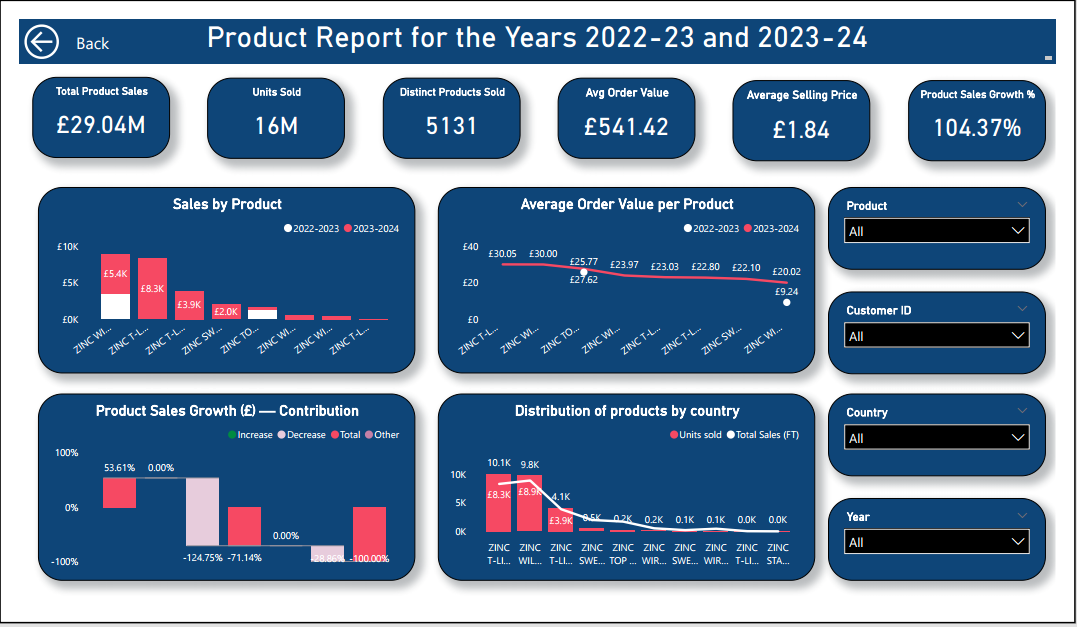

The dashboard page shown, as its layout file describes it:
{"tool":"powerbi","page":{"name":"Product Analysis Report","canvas":[1280,720],"ordinal":2},"visuals":[{"type":"textbox","title":"Product Report for the Years 2022-23 and 2023-24","box":[0,0,1280.3,55],"z":0},{"type":"card","title":"Total Product Sales ","fields":{"Values":["Fact_Transactions.Total Sales (FT)"]},"box":[16.1,71.3,170,100],"z":1000},{"type":"card","title":"Avg Order Value","fields":{"Values":["Fact_Transactions.AOV"]},"box":[665,72.3,170,100],"z":2000},{"type":"card","title":"Distinct Products Sold","fields":{"Values":["Fact_Transactions.Distinct Products Sold"]},"box":[448.7,72.5,170,100],"z":3000},{"type":"card","title":"Units Sold","fields":{"Values":["Fact_Transactions.Units sold"]},"box":[232.4,71.8,170,100],"z":4000},{"type":"waterfallChart","title":"Product Sales Growth (£) — Contribution","fields":{"Category":["Fact_Transactions.Description"],"Y":["Fact_Transactions.Product Sales Growth %"],"Breakdown":["Fact_Transactions.Source Year"]},"box":[23.2,462.2,465.9,231.1],"z":5000},{"type":"columnChart","title":"Sales by Product","fields":{"Category":["Fact_Transactions.Description"],"Y":["Fact_Transactions.Total Sales (FT)"],"Series":["Fact_Transactions.Source Year"]},"box":[22.9,207.1,465.7,230],"z":6000},{"type":"barChart","title":"Average Order Value per Product","fields":{"Category":["Fact_Transactions.Description"],"Series":["Fact_Transactions.Source Year"],"Y":["Fact_Transactions.AOV"]},"box":[517.1,207.1,465.7,230],"z":7000},{"type":"lineClusteredColumnComboChart","title":"Distribution of products by country","fields":{"Category":["Fact_Transactions.Description"],"Y":["Fact_Transactions.Units sold"],"Y2":["Fact_Transactions.Total Sales (FT)"]},"box":[517.3,462.4,465.2,230.5],"z":8000},{"type":"card","title":"Average Selling Price","fields":{"Values":["Fact_Transactions.ASP"]},"box":[881.3,74.7,170,100],"z":9000},{"type":"card","title":"Product Sales Growth %","fields":{"Values":["Fact_Transactions.Product Sales Growth %"]},"box":[1097.8,74.7,170,100],"z":10000},{"type":"slicer","fields":{"Values":["Fact_Transactions.Source Year"]},"box":[999,591.4,269,101.5],"z":11000},{"type":"slicer","fields":{"Values":["Fact_Transactions.Description"]},"box":[999,207.2,269,101.5],"z":12000},{"type":"actionButton","box":[0,0,114.9,55],"z":13000},{"type":"slicer","fields":{"Values":["Fact_Transactions.Country"]},"box":[999,462.4,269,101.5],"z":14000},{"type":"slicer","fields":{"Values":["Fact_Transactions.Customer ID"]},"box":[999,336.2,269,101.5],"z":15000}]}

Visuals, with their boxes on the page's 1280x720 design canvas (x1, y1, x2, y2). These are canvas units, not pixel positions in the 1077x627 screenshot, which may show the page scaled, cropped or inside an application window:
"Product Report for the Years 2022-23 and 2023-24" textbox: [0,0,1280,55]
"Total Product Sales " card: [16,71,186,171]
"Avg Order Value" card: [665,72,835,172]
"Distinct Products Sold" card: [449,72,619,172]
"Units Sold" card: [232,72,402,172]
"Product Sales Growth (£) — Contribution" waterfallChart: [23,462,489,693]
"Sales by Product" columnChart: [23,207,489,437]
"Average Order Value per Product" barChart: [517,207,983,437]
"Distribution of products by country" lineClusteredColumnComboChart: [517,462,982,693]
"Average Selling Price" card: [881,75,1051,175]
"Product Sales Growth %" card: [1098,75,1268,175]
slicer - Fact_Transactions.Source Year: [999,591,1268,693]
slicer - Fact_Transactions.Description: [999,207,1268,309]
actionButton: [0,0,115,55]
slicer - Fact_Transactions.Country: [999,462,1268,564]
slicer - Fact_Transactions.Customer ID: [999,336,1268,438]
